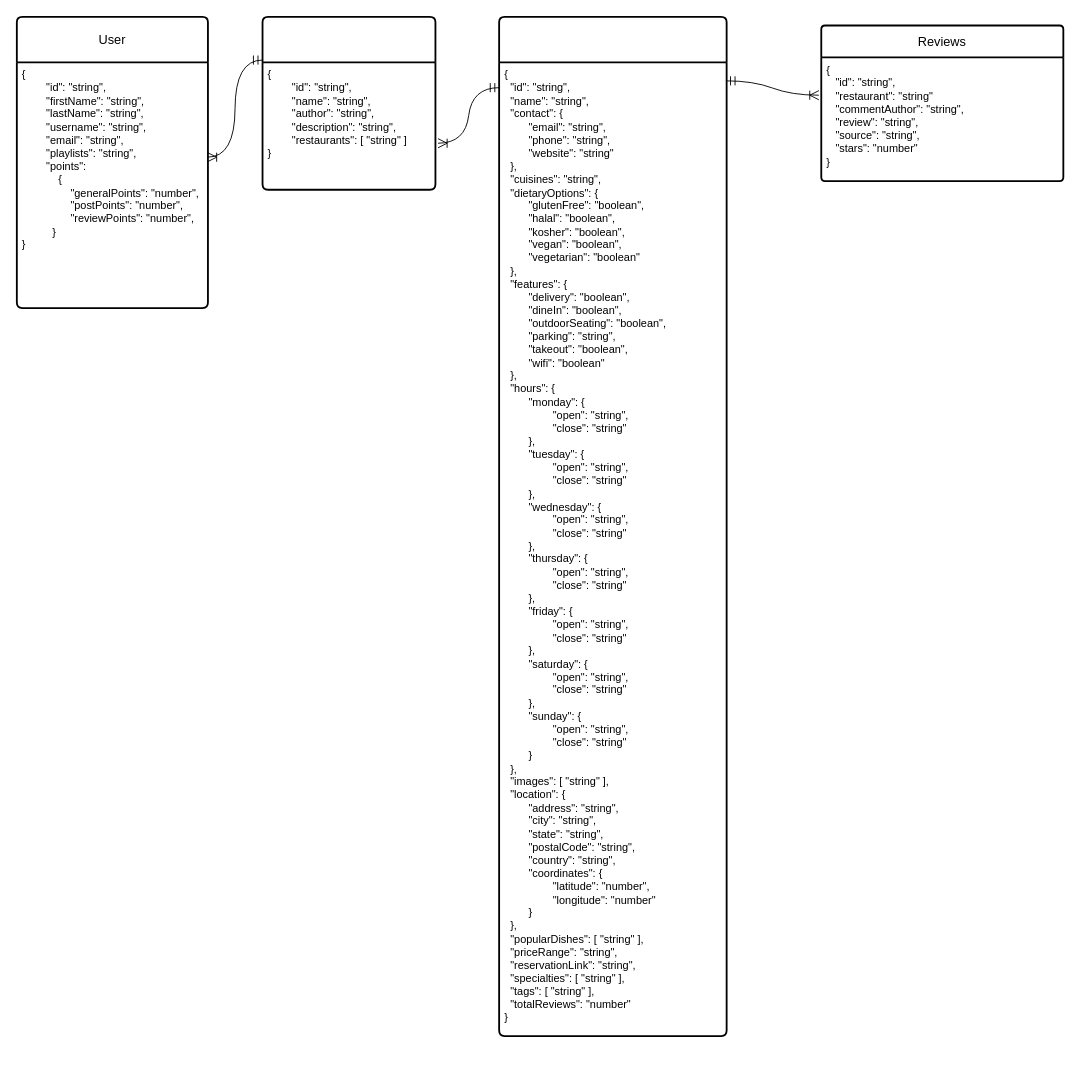
Image size: 1079x1066. Some labels were removed from this diagram. The box of each missing label's shape, as (x1, y1, x2, y2) in pixels:
Playlist: (261, 15, 436, 190)
Restaurant: (498, 15, 727, 1036)
